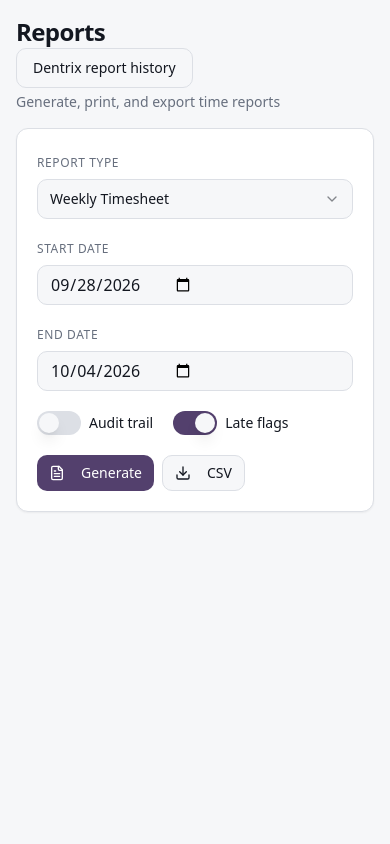
Test: payroll report tardies › marks only the person who was late; a colleague's same-day row stays clean
Click the button "Generate" at [96, 473], box [37,455,154,491]
(page scrolled)
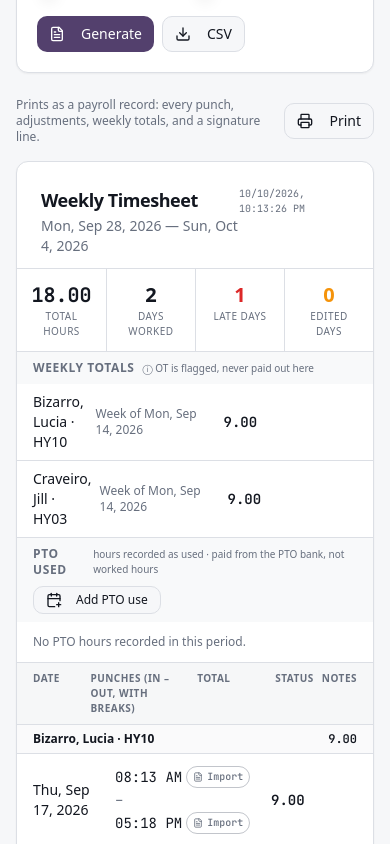
Expected: the text "Bizarro, Lucia · HY10" below "ⓘ OT is flagged, never paid out here" is shown, [33,392,84,451]
